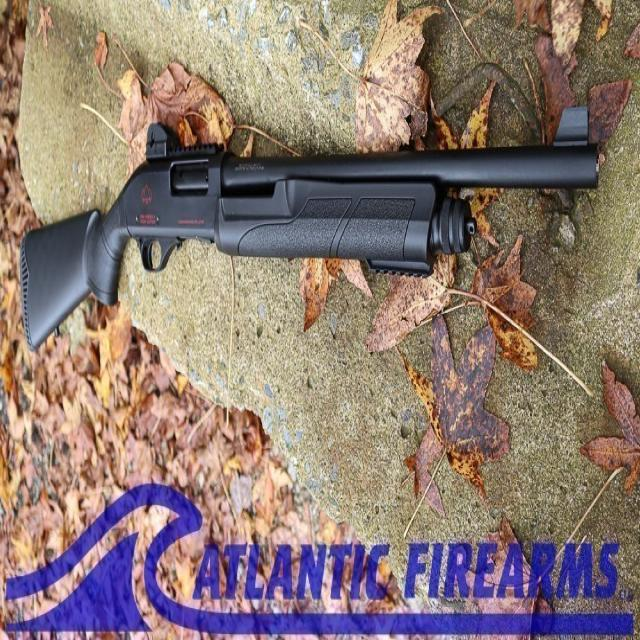ShotGun: (20, 107, 602, 352)
